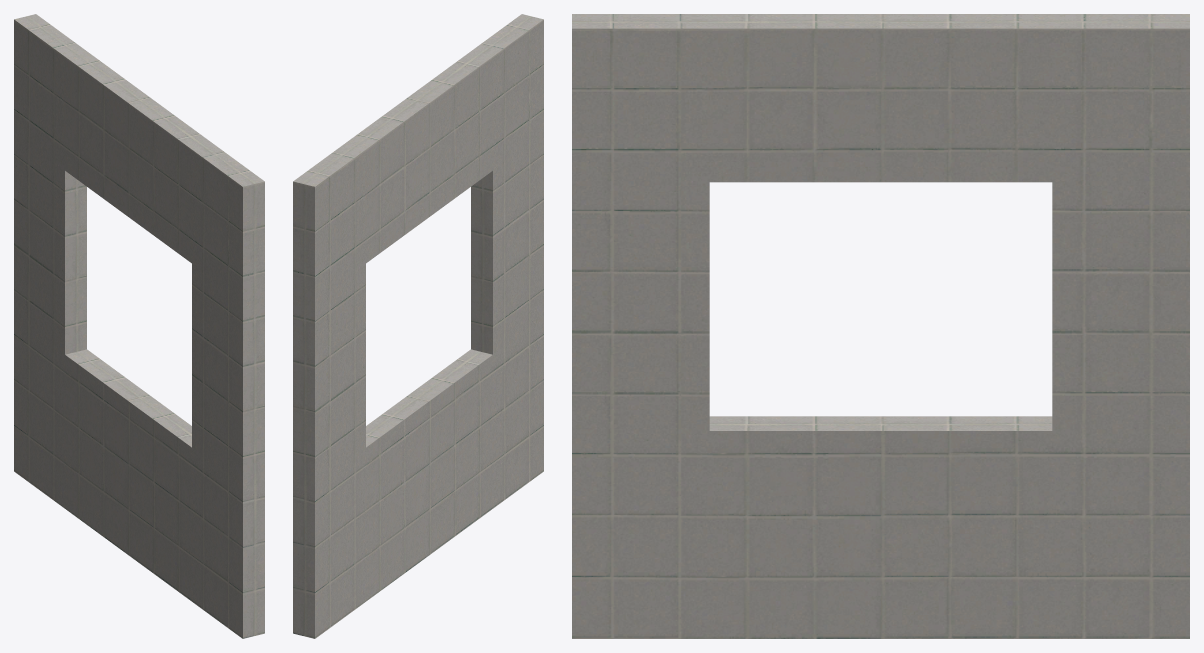
File: soupwindwall038.obj
3 views of the same model, side by side, from view 1: azimuth 30°, elevation 25°; view 2: azimuth 150°, elevation 25°; view 3: azimuth 270°, elevation 25° (orthographic). The views are drawn at different scales.
Parts seen in each view (by area): view 1: soupwindwall038_high_1; view 2: soupwindwall038_high_1; view 3: soupwindwall038_high_1.
Part boxes in pixels (x1,y1,x2,y2): soupwindwall038_high_1: (14, 14, 264, 638); soupwindwall038_high_1: (293, 14, 543, 638); soupwindwall038_high_1: (572, 14, 1189, 638).
Bounding box in the file's own units: 0.1504 × 2.95 × 2.7.
